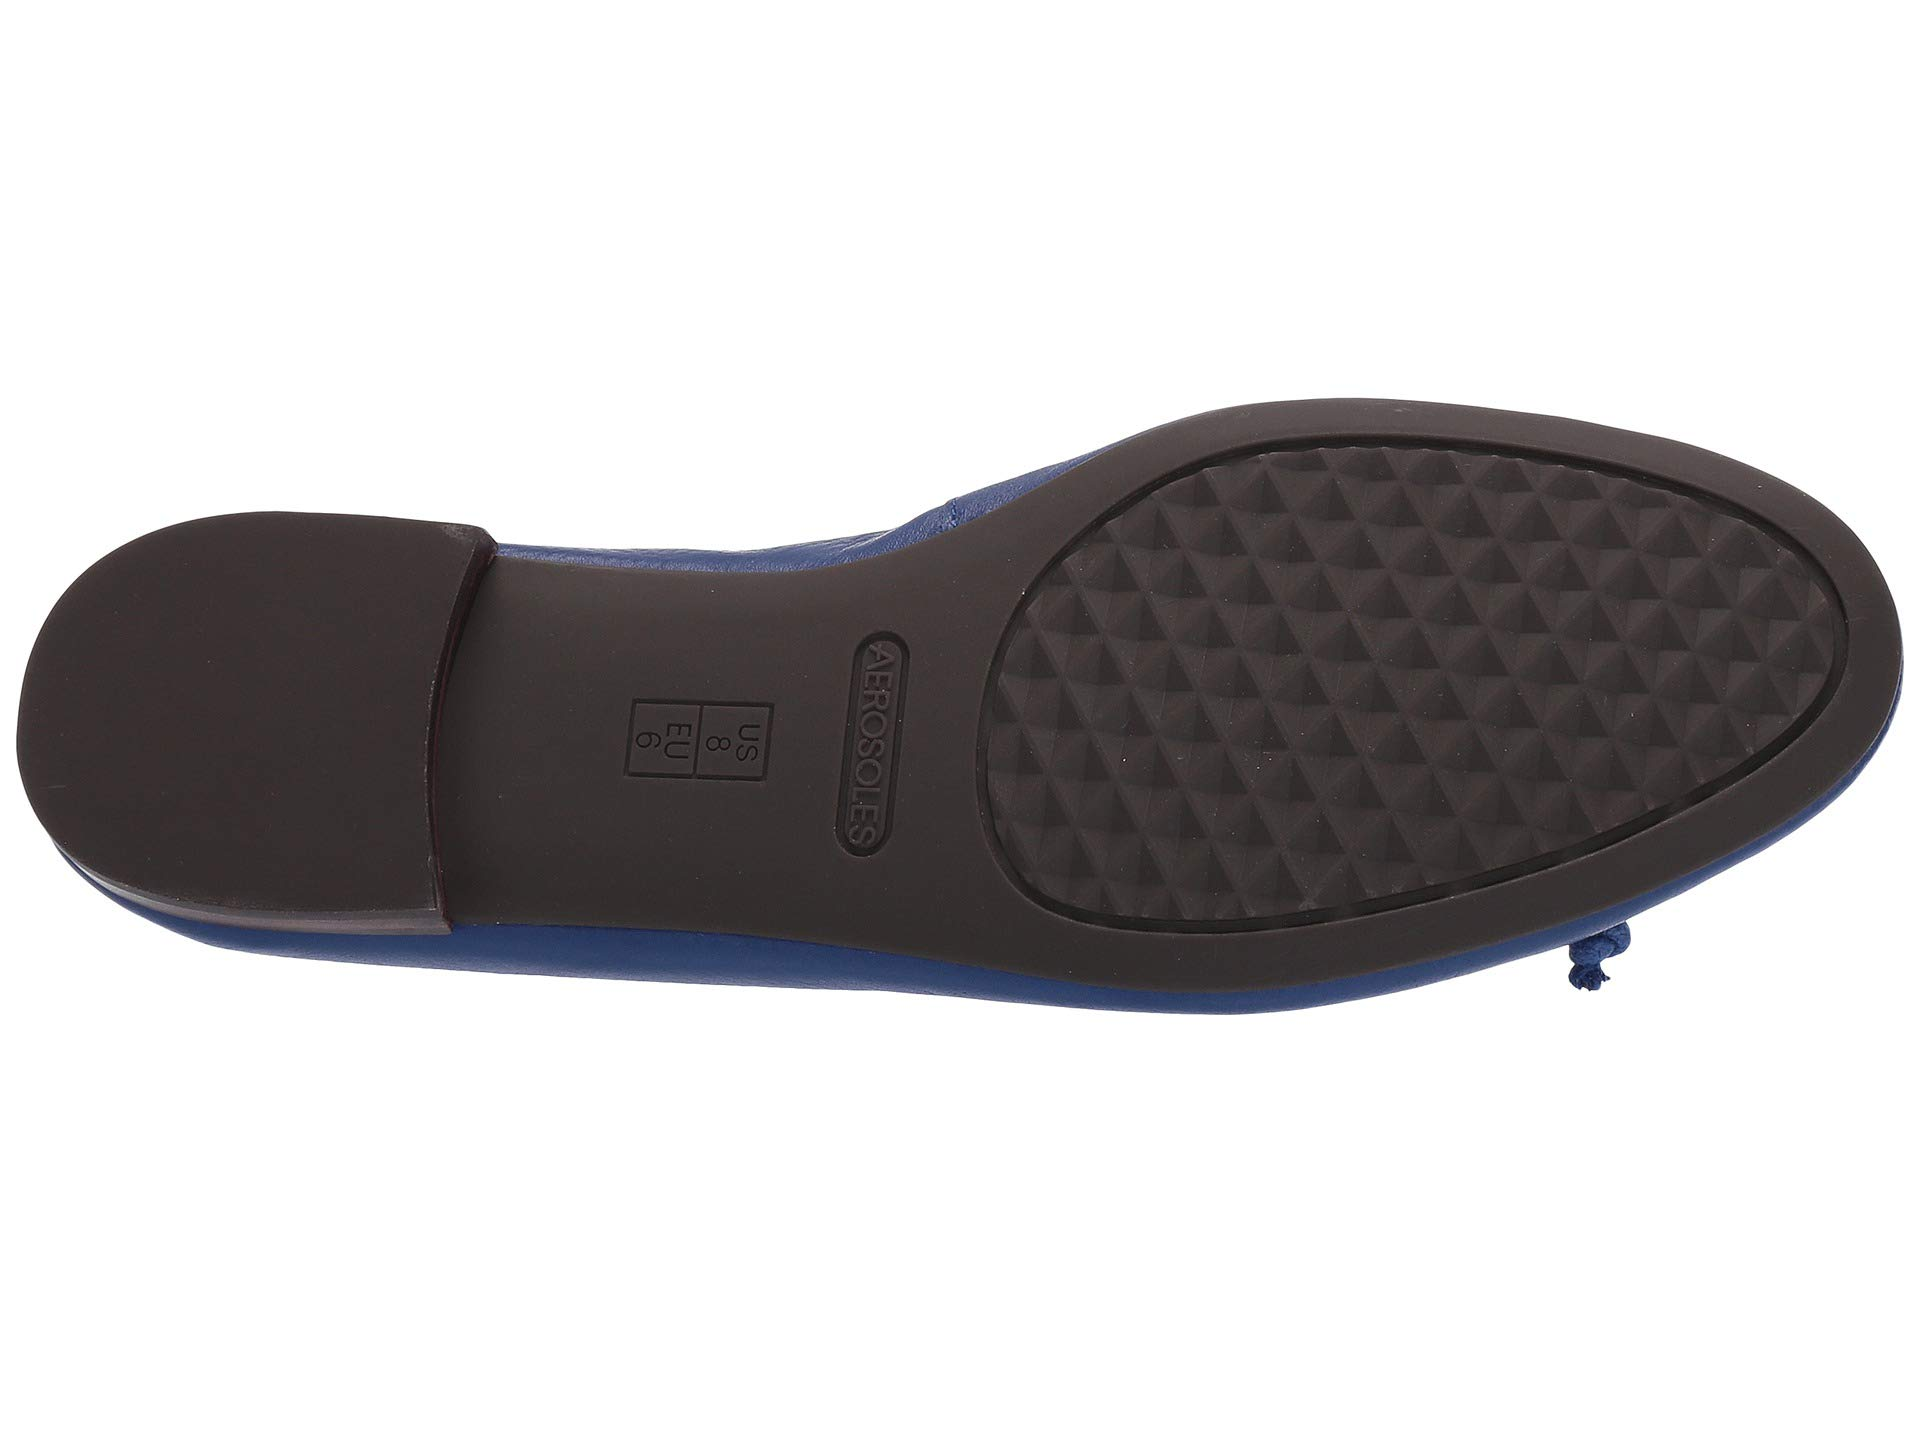quad: (1147, 510, 1512, 876)
triangle: (1147, 510, 1512, 876)
